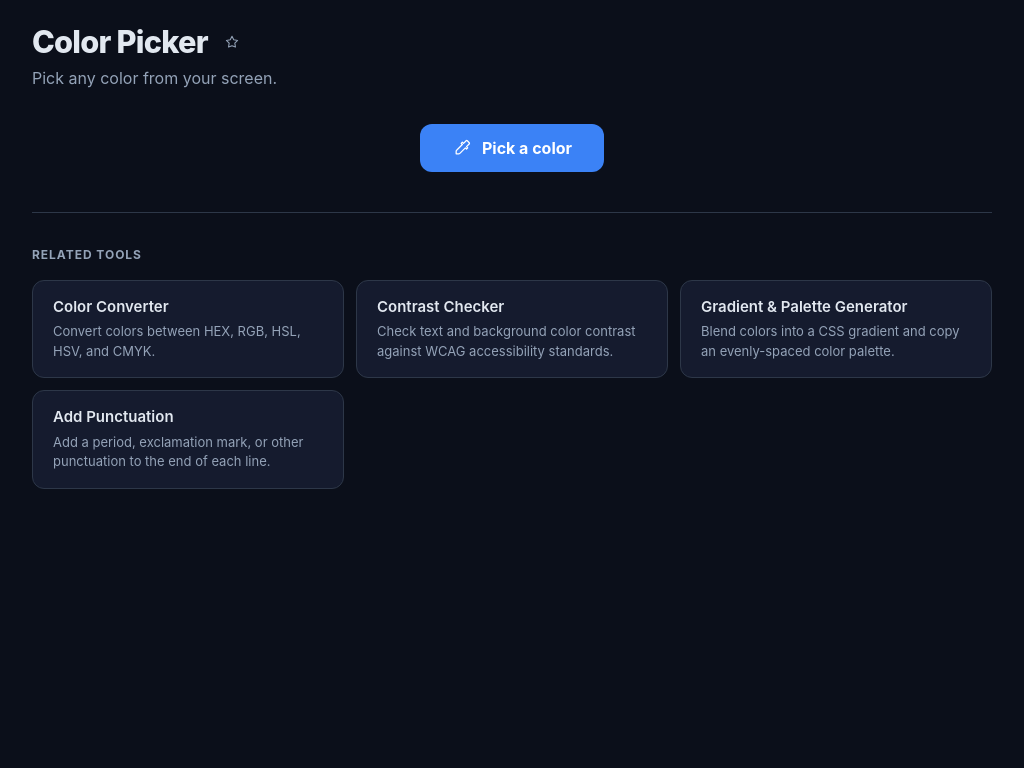
Scenario: ColorPicker — EyeDropper supported › shows HEX, RGB, HSL labels after a pick
Click the button with aria-label "pick a color from the screen". click: coordinates (512, 148)
box: [420,124,604,172]
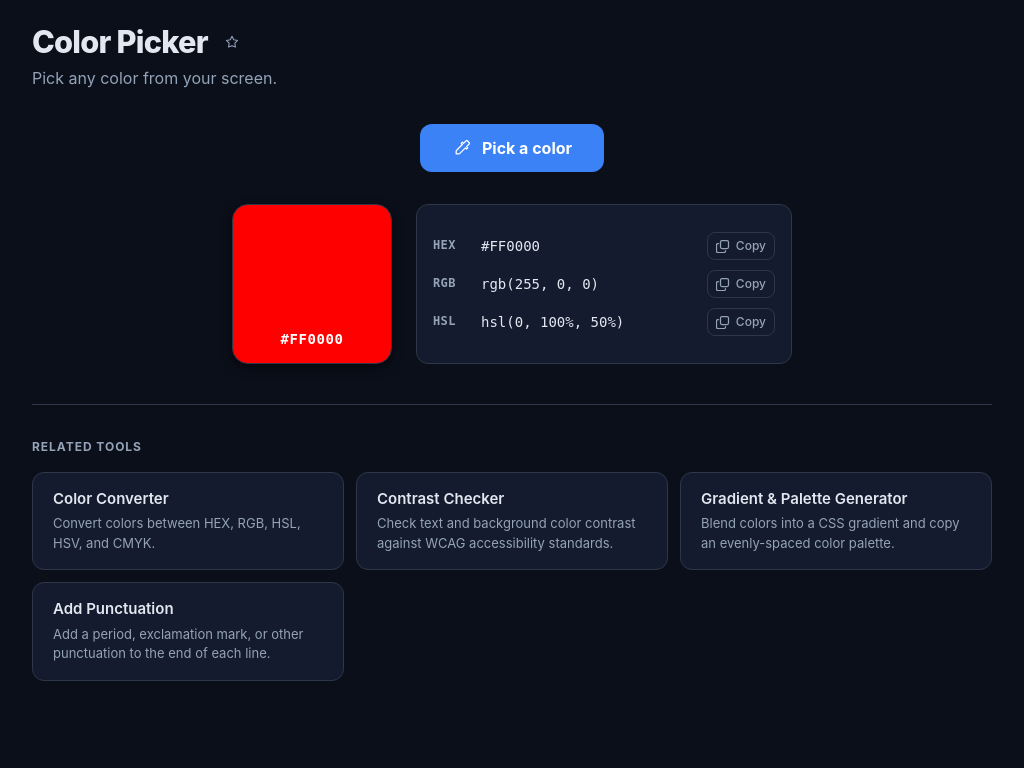
Check: the 2nd text "#FF0000" is shown, box [280,328,343,351]
Check: the text "HEX" is shown, box [433,238,456,252]
Check: the text "RGB" is shown, box [433,276,456,290]
